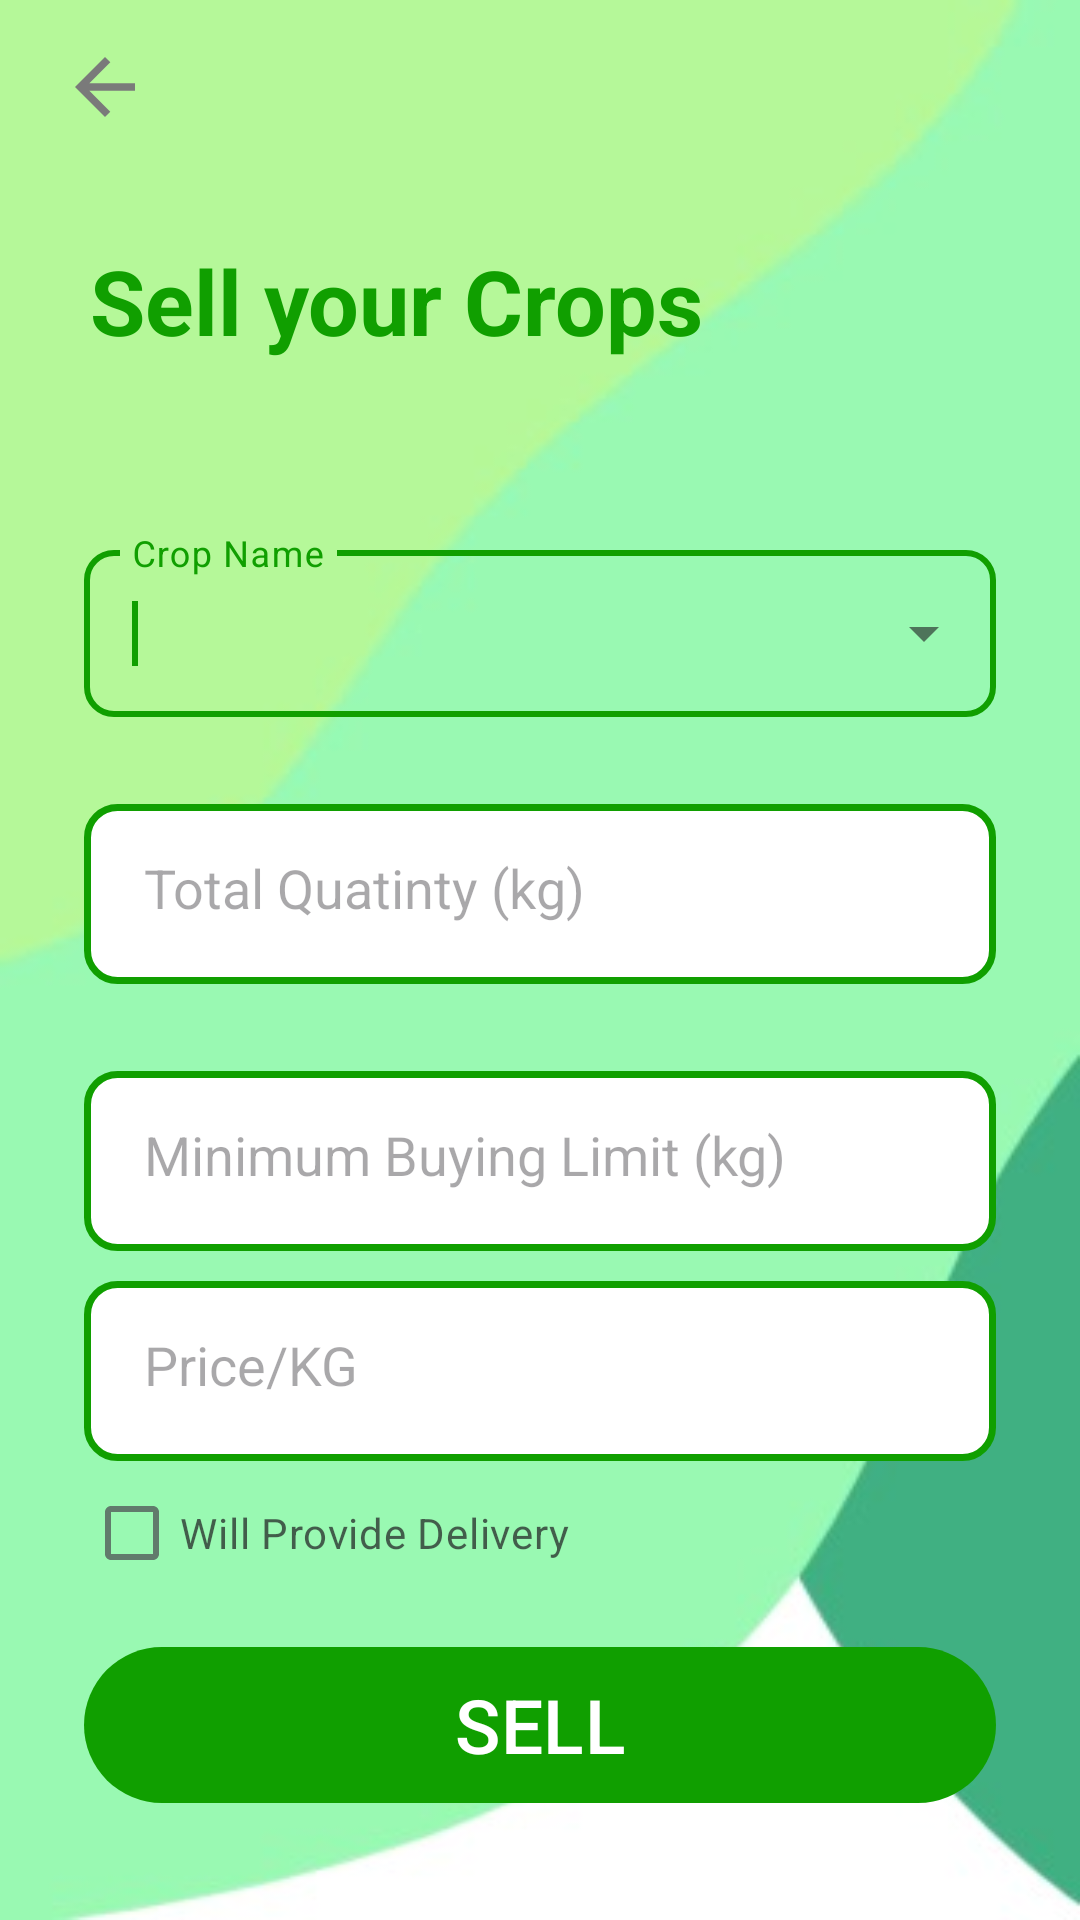

Where icons sit on this 1080px x 1920px app screen, as {"x1": x1, "y1": y1, "x2": x2, "y2": y2}:
arrow back: {"x1": 75, "y1": 57, "x2": 135, "y2": 117}
